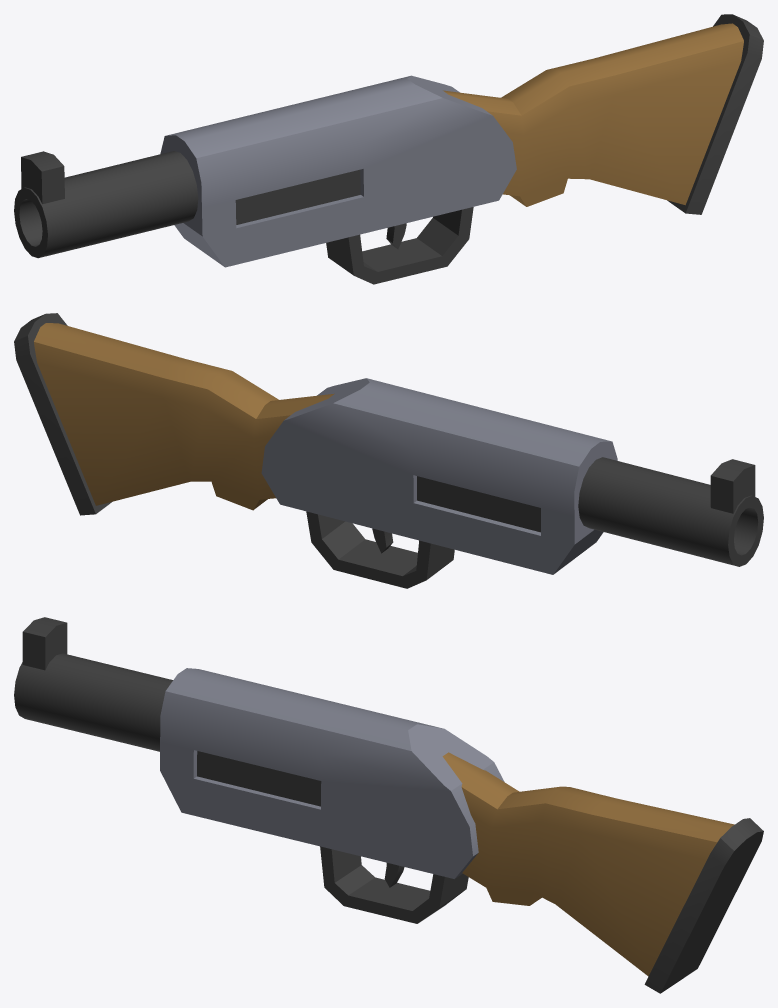
File: gun_flame.glb
The picture shows the model from 3 angles, top to bottom: view 1: azimuth 30°, elevation 25°; view 2: azimuth 150°, elevation 25°; view 3: azimuth 330°, elevation 25°; orthographic projection.
Visible parts, largest first — view 1: ShortCannon; view 2: ShortCannon; view 3: ShortCannon.
Part boxes in pixels (x1,y1,x2,y2): ShortCannon: [14, 14, 763, 284]; ShortCannon: [14, 313, 763, 588]; ShortCannon: [14, 617, 763, 993].
Bounding box in the file's own units: 1.21 × 0.3141 × 0.1318.
